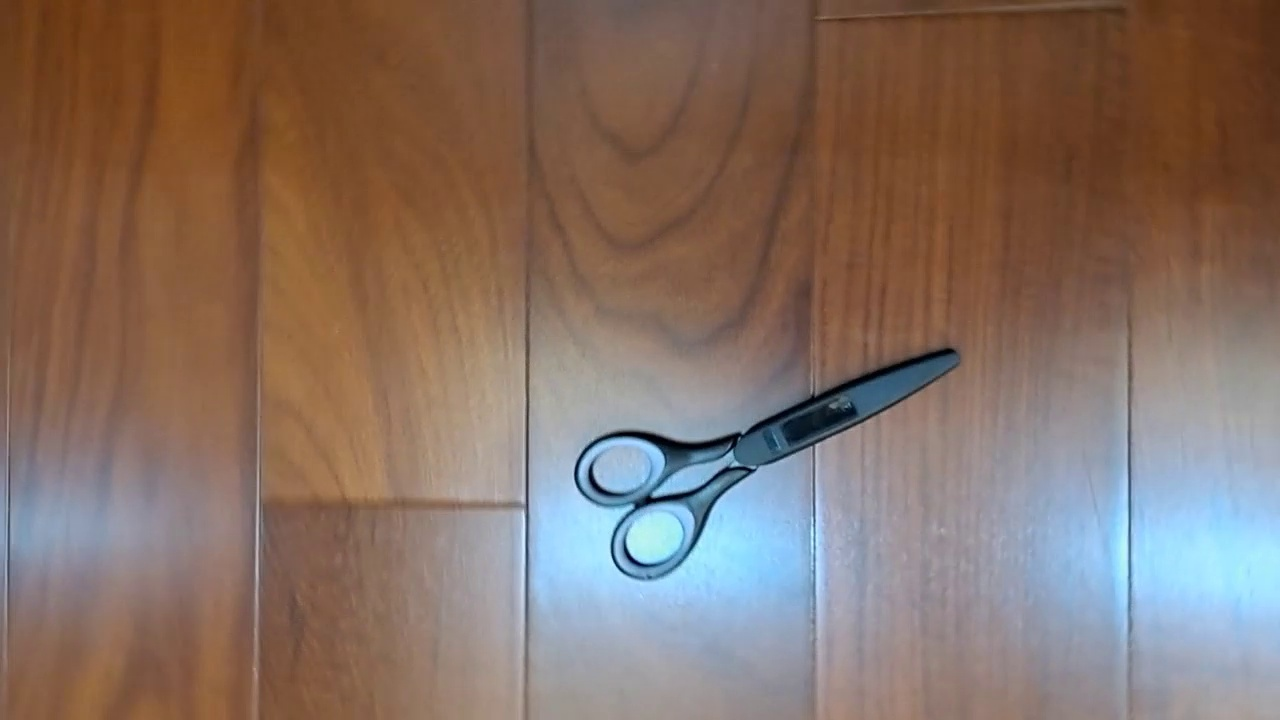scissors: (573, 346, 963, 582)
